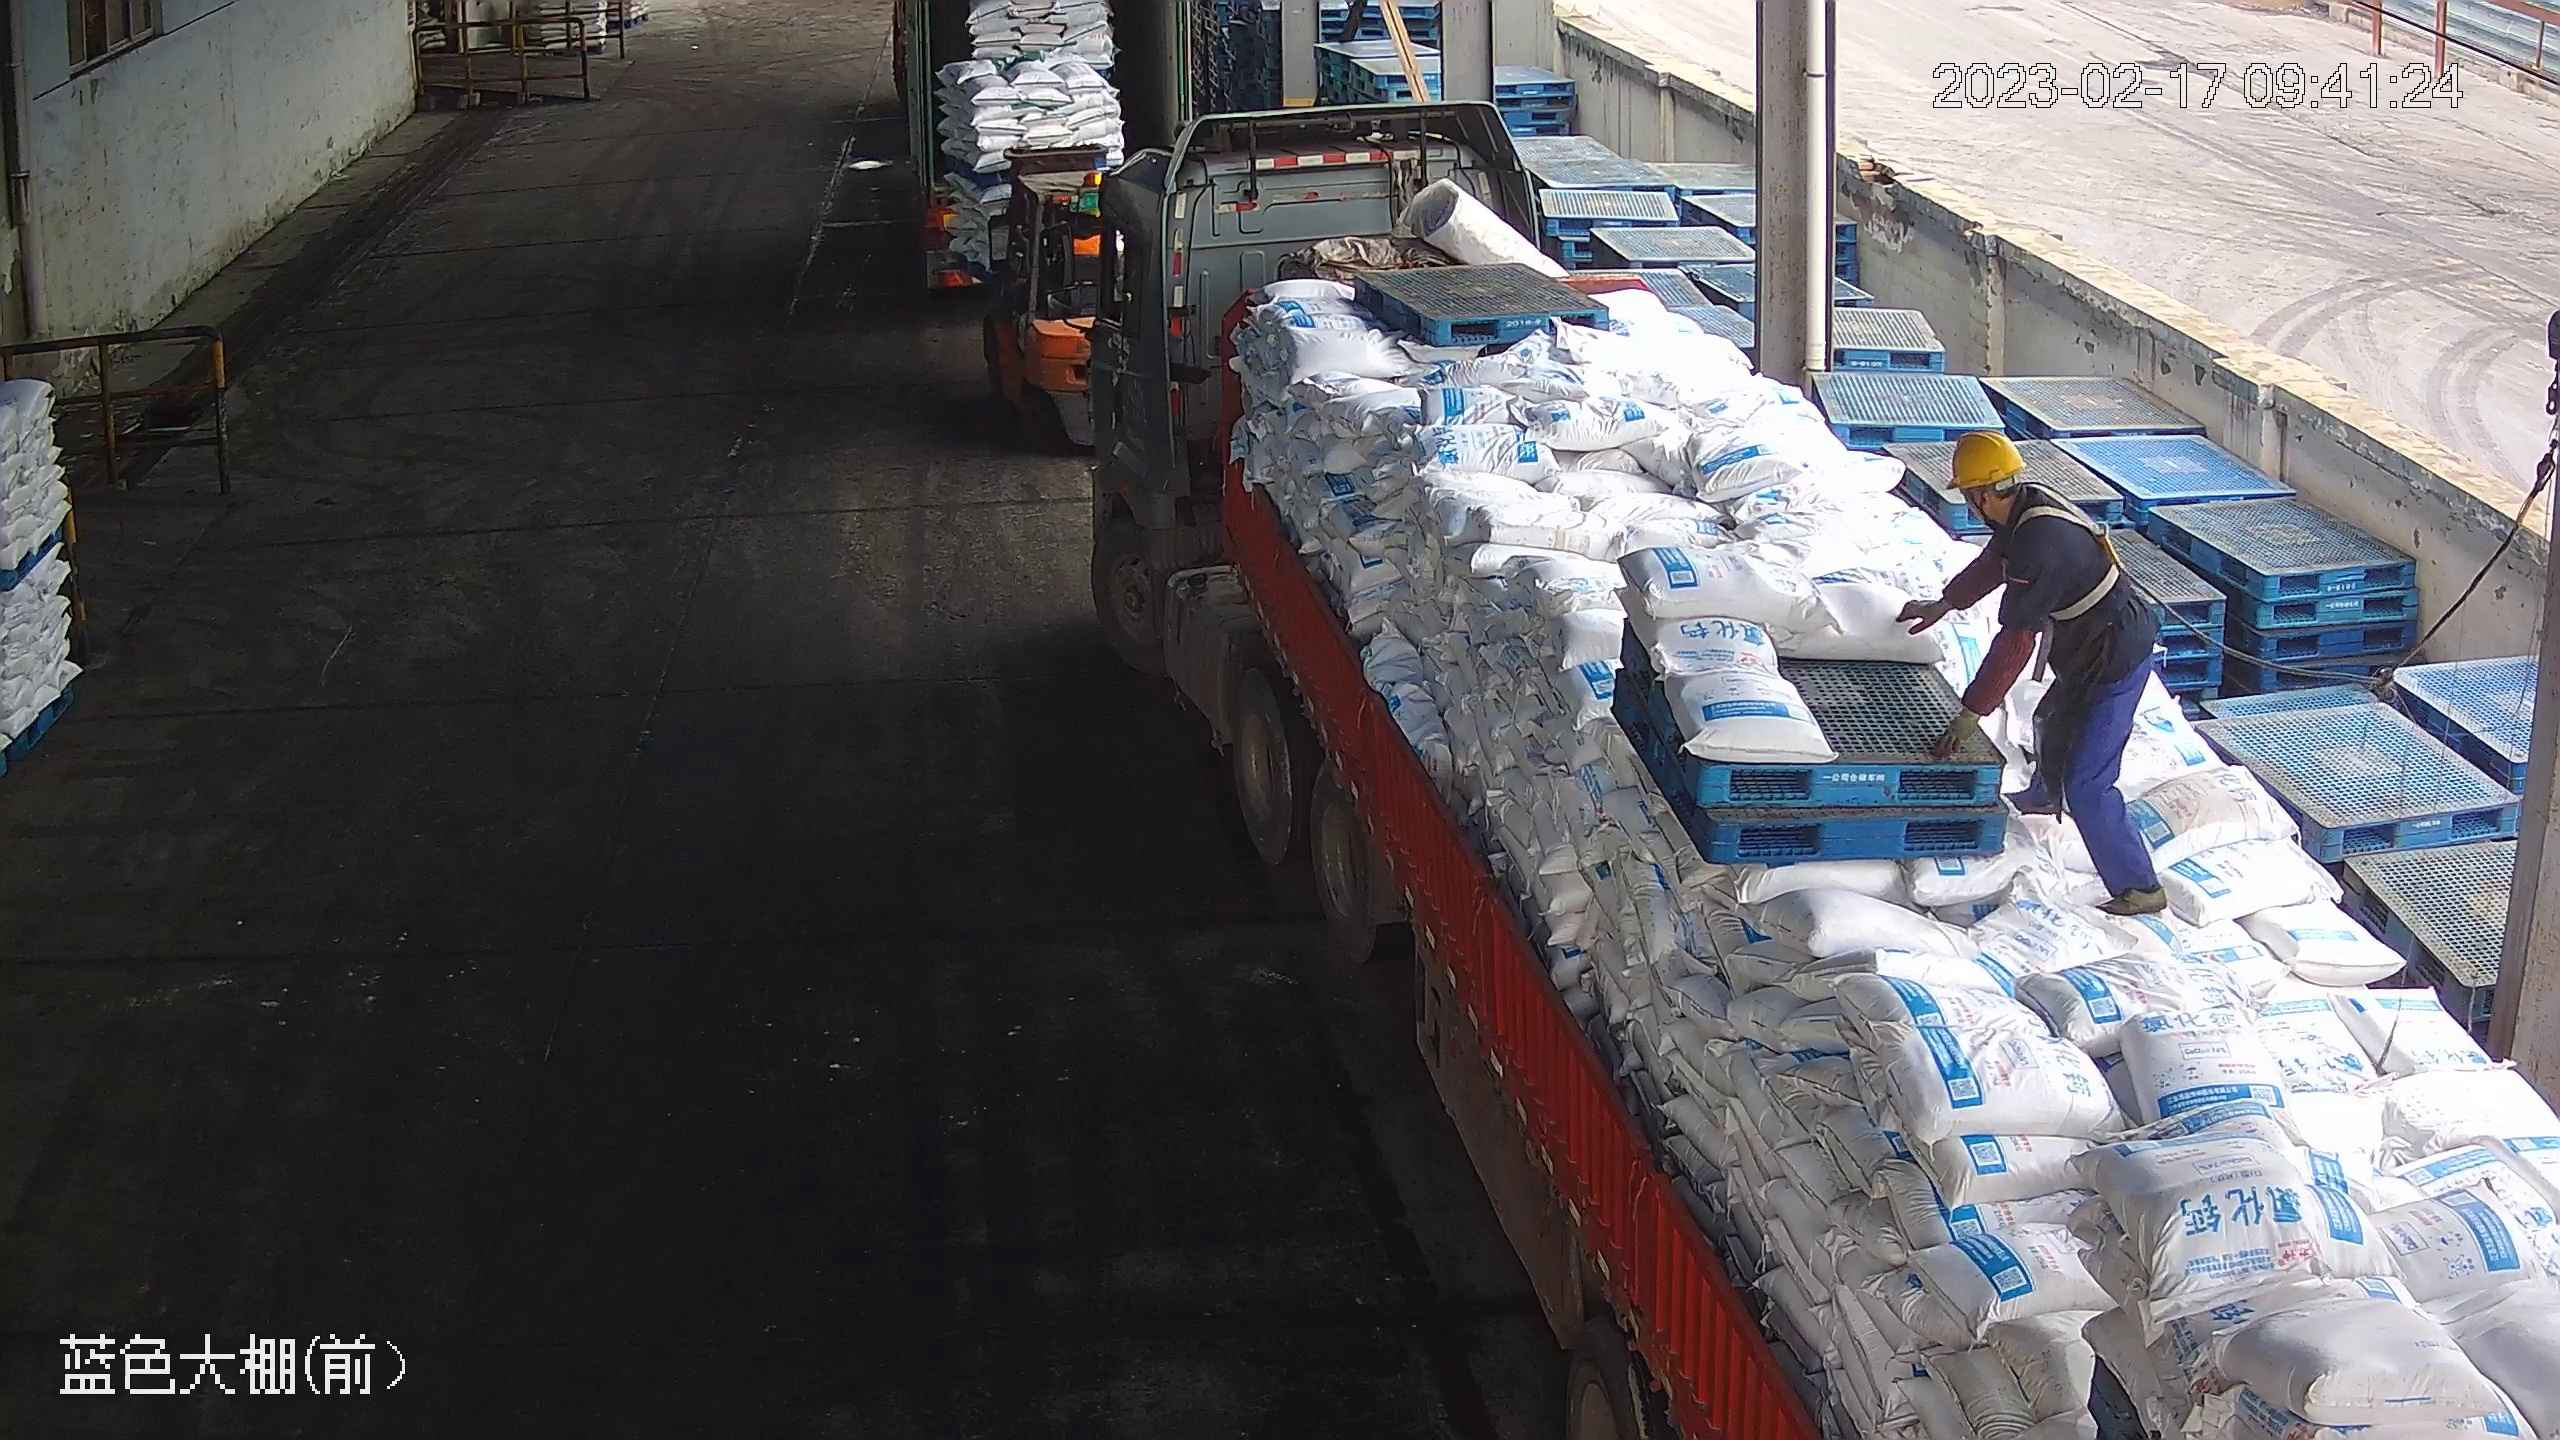belt: (2011, 486, 2139, 625)
head: (1946, 428, 2095, 563)
helmet: (1945, 428, 2030, 488)
people: (1896, 428, 2176, 922)
truck: (1034, 98, 2555, 1439), (890, 1, 1187, 295)
